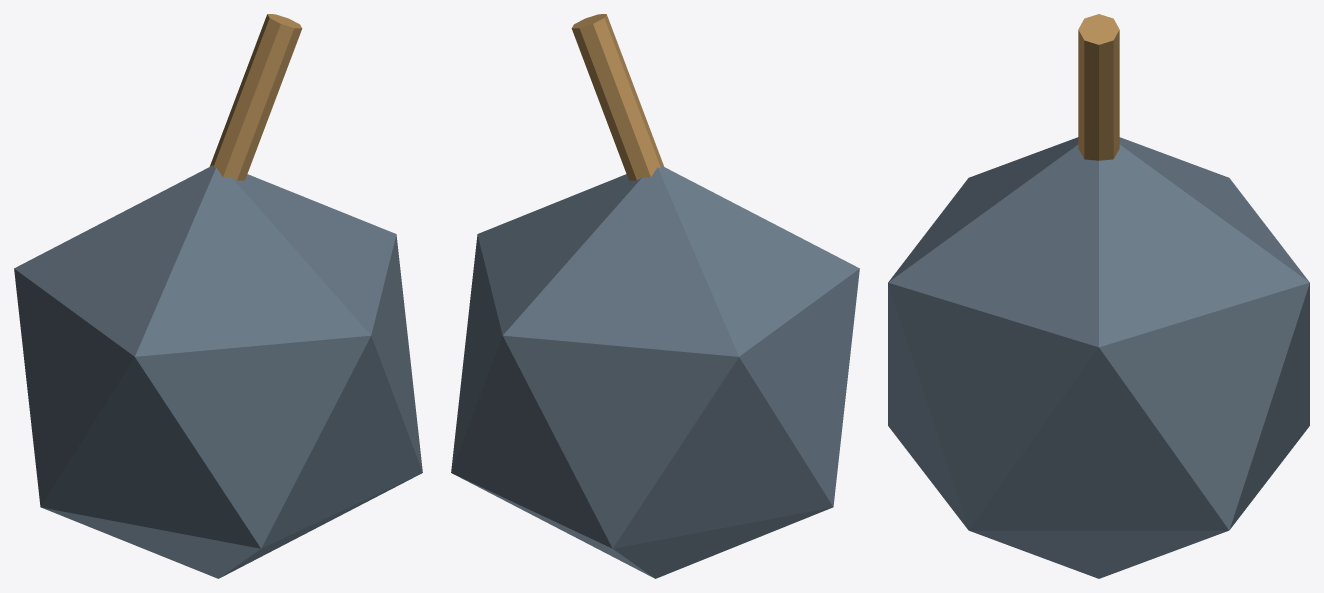
File: SH10_CherryBomb.fbx
3 views of the same model, side by side, from view 1: azimuth 30°, elevation 25°; view 2: azimuth 150°, elevation 25°; view 3: azimuth 270°, elevation 25° (orthographic). The views are drawn at different scales.
Parts seen in each view (by area): view 1: SH10_CherryBomb; view 2: SH10_CherryBomb; view 3: SH10_CherryBomb.
Boxes of the visible parts, x1,y1,x2,y2 form: SH10_CherryBomb: (14,14,422,578); SH10_CherryBomb: (451,14,859,578); SH10_CherryBomb: (888,14,1309,578).
Size of the model in its own units: 53.67 by 79 by 51.04.
